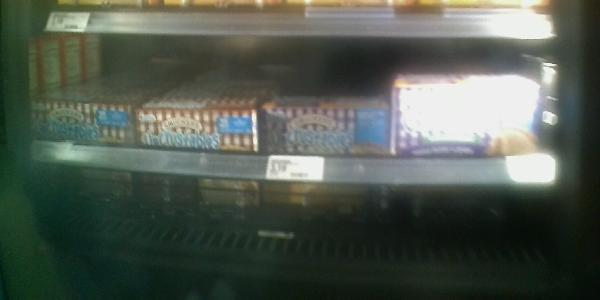icecream: (394, 77, 539, 206), (261, 101, 386, 213), (135, 107, 257, 209), (32, 96, 131, 195)
